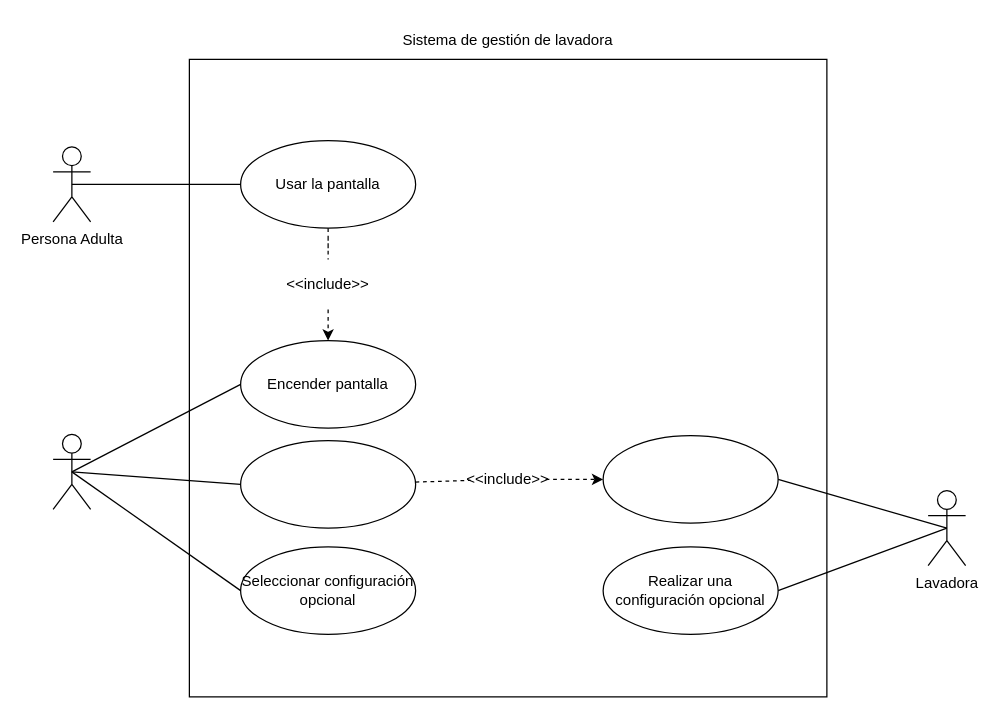
Some shapes in this 1000 by 719 pixel diagram are drawn without their labels. Here are the shapes that lost their labels. From the top down, the centre of each, then its label:
At point (71, 471): "Pantalla digital".
At point (327, 483): "Seleccionar programa segun tiempo".
At point (690, 478): "Realizar programa segun tiempo".
